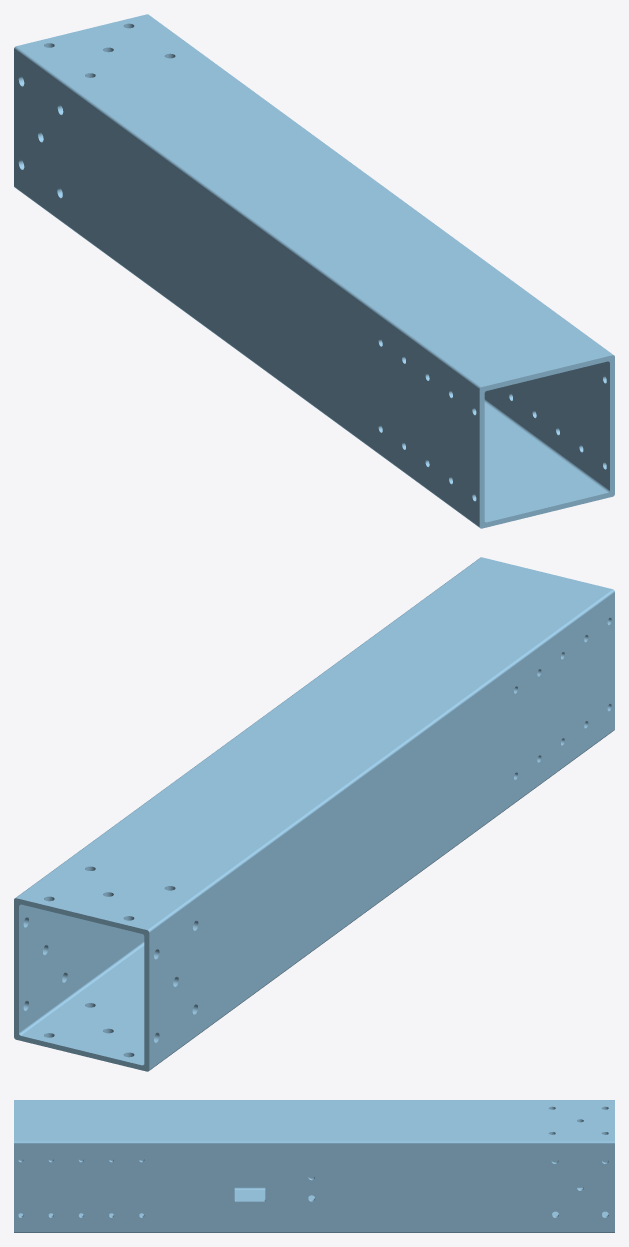
The model's file is elo2_onepiece.dae.
3 renders of one model, top to bottom at view 1: azimuth 30°, elevation 25°; view 2: azimuth 150°, elevation 25°; view 3: azimuth 270°, elevation 25°, orthographic. The views are drawn at different scales.
Visible parts, largest first — view 1: 5e67e6171a32b414ce497a37; view 2: 5e67e6171a32b414ce497a37; view 3: 5e67e6171a32b414ce497a37.
Boxes of the visible parts, x1,y1,x2,y2 form: 5e67e6171a32b414ce497a37: [14, 14, 614, 528]; 5e67e6171a32b414ce497a37: [14, 557, 614, 1071]; 5e67e6171a32b414ce497a37: [14, 1100, 614, 1232].
Bounding box in the file's own units: 0.0587 × 0.35 × 0.0587.
